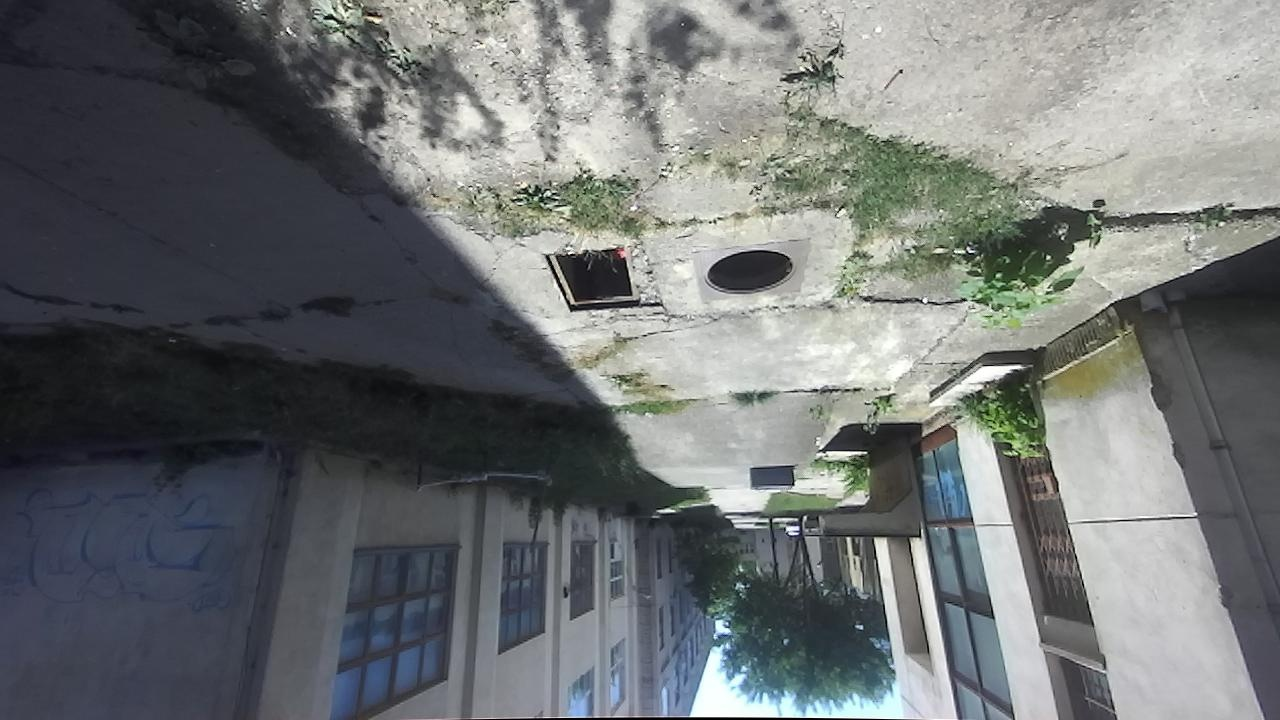drain: (537, 248, 645, 315), (696, 249, 801, 298)
